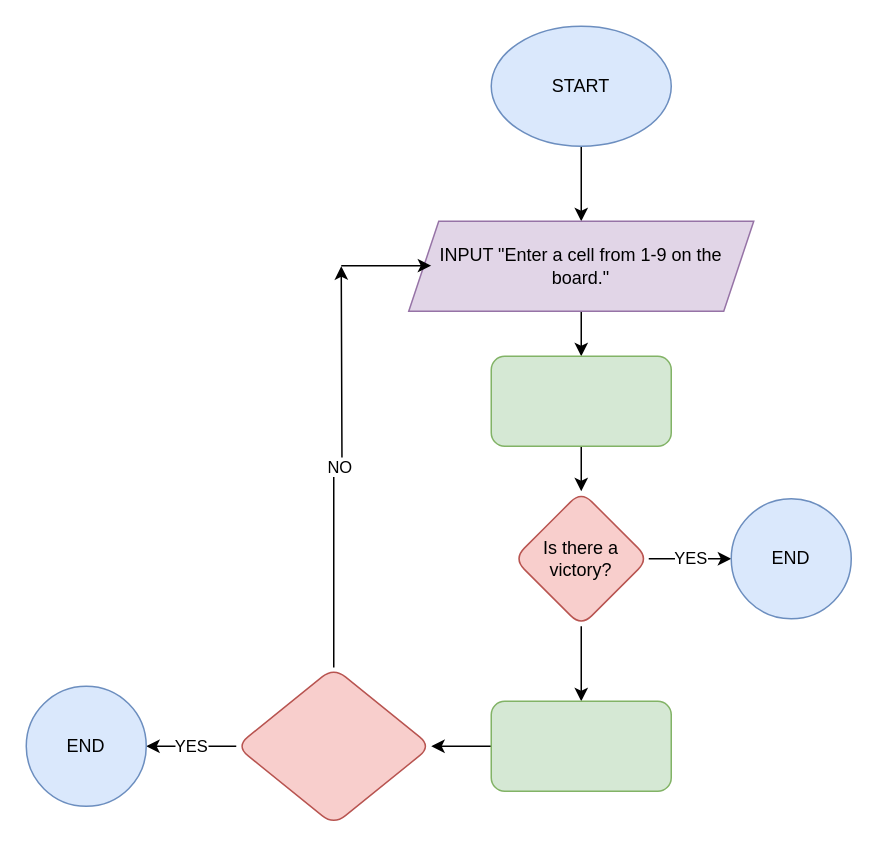
The diagram is 878 pixels wide and 852 high, and some of its shapes have lost their labels. Here are the shapes that lost their labels. From the top down, the centre of each, then its label:
(x=580, y=400): Place a cross on the cell selected
(x=333, y=745): Is there a victory or draw?
(x=580, y=745): AI makes a move
